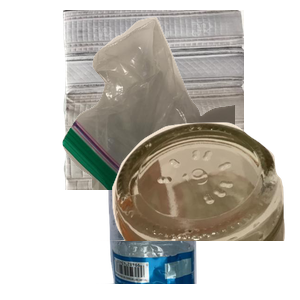glass: (89, 120, 300, 300)
paper: (60, 10, 300, 190)
plastic: (96, 120, 285, 300)
trash: (60, 14, 300, 194)
